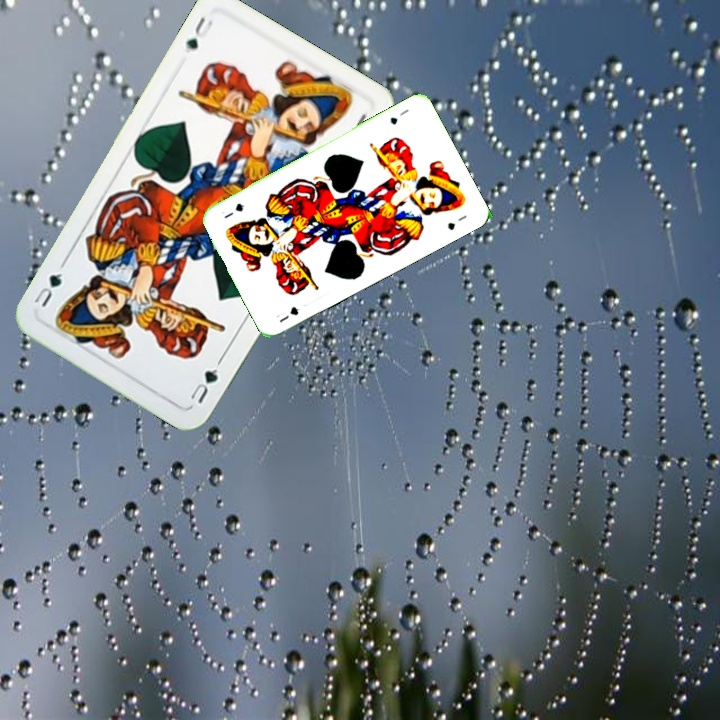GU: (184, 364, 221, 406), (181, 12, 216, 52), (272, 302, 302, 325), (386, 105, 411, 127)
